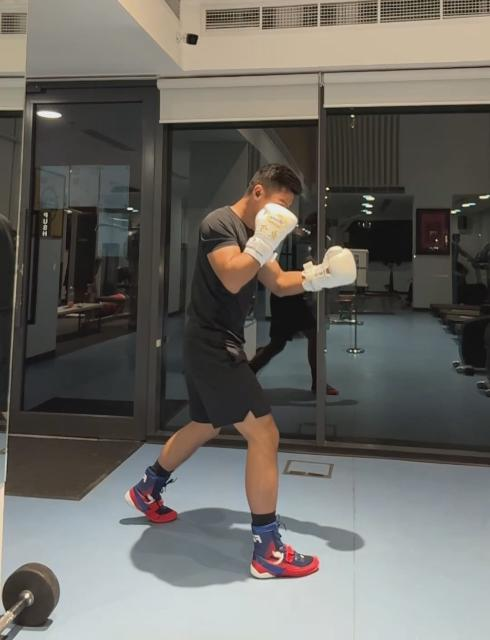punch: (126, 161, 358, 584)
